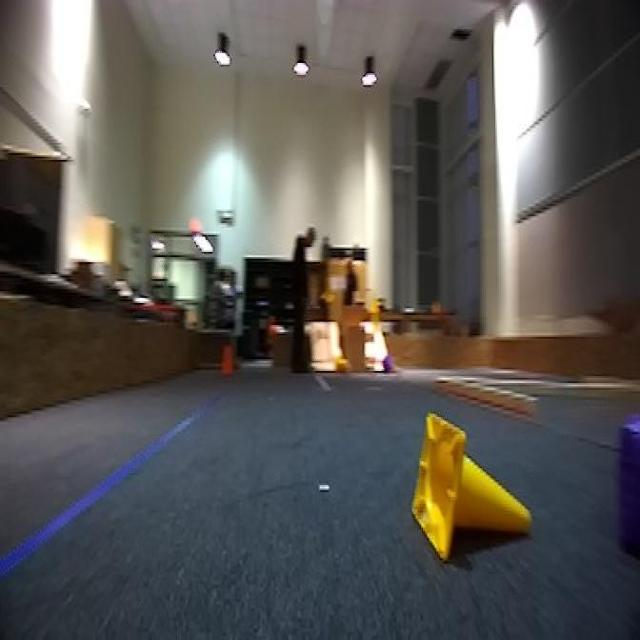frc_cone: (410, 414, 532, 565), (334, 358, 349, 374)
frc_cube: (614, 417, 640, 548), (381, 356, 393, 376)
